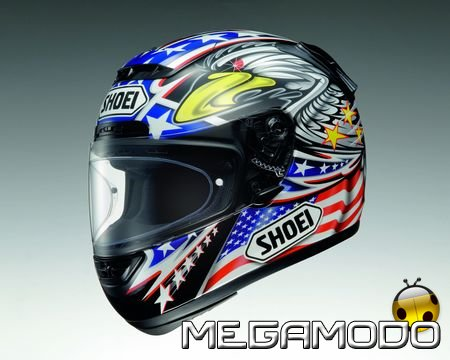helmet: (86, 45, 393, 279)
